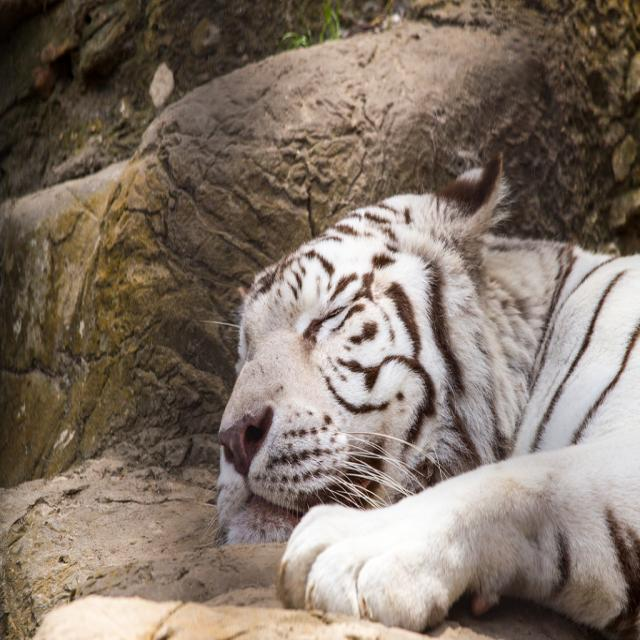Tiger: (199, 155, 640, 631)
